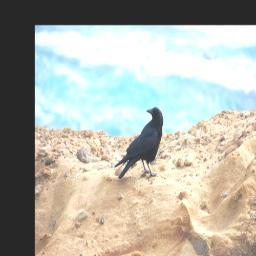Crow: (114, 104, 164, 182)
